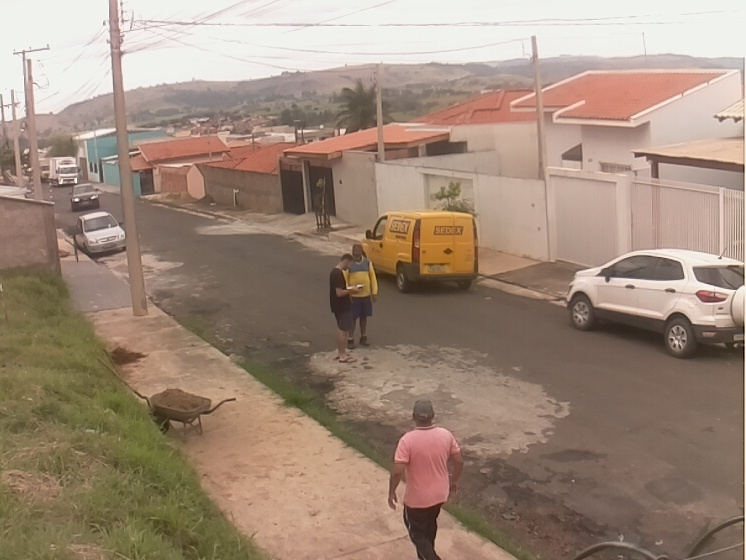person: (386, 397, 465, 560), (344, 242, 379, 351), (327, 253, 361, 364)
